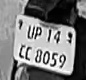0: (42, 51, 51, 66)
1: (45, 26, 54, 44)
4: (52, 30, 63, 43)
5: (49, 52, 59, 67)
8: (33, 49, 43, 63)
9: (57, 54, 66, 69)
C: (17, 43, 26, 60), (24, 45, 33, 60)
P: (34, 27, 43, 41)
U: (25, 25, 34, 40)
